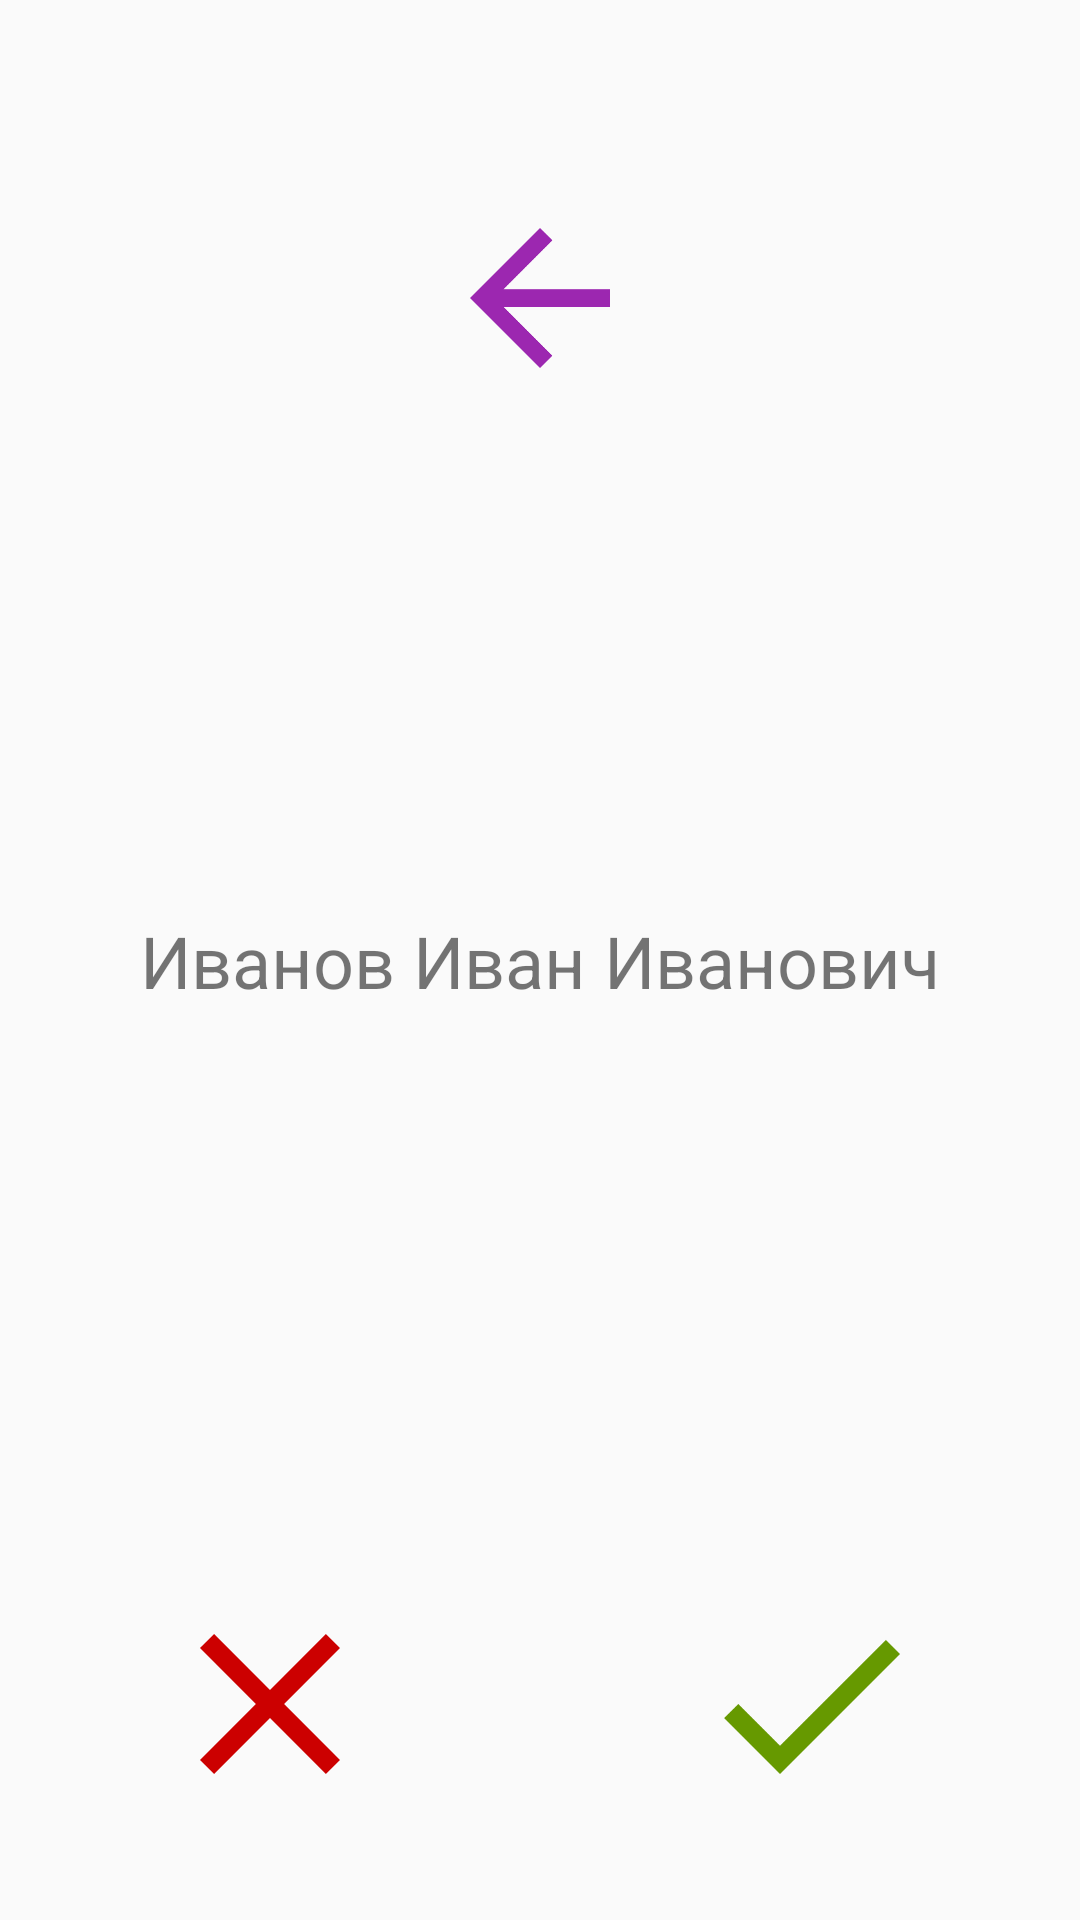

Locate icon controls on the screen. Image size 1080w x 1920h, boxes as [left=x1, top=y1, right=x2, bottom=y2].
arrow back in: [left=470, top=228, right=610, bottom=368]
yes: [left=724, top=1640, right=900, bottom=1774]
